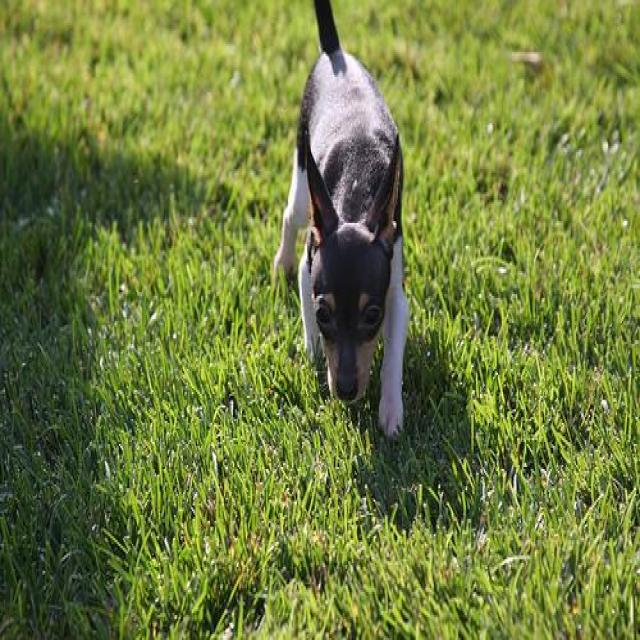toy_terrier: (275, 0, 404, 436)
